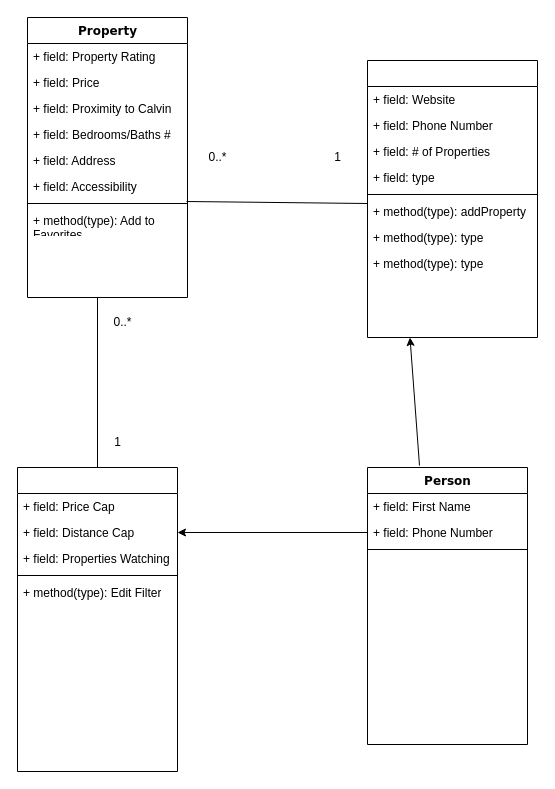
The diagram is 555 pixels wide and 789 high, and some of its shapes have lost their labels. The box of each missing label's shape, as (x1, y1, x2, y2) in pixels:
Landlord: (366, 60, 538, 338)
Student: (16, 466, 178, 772)
